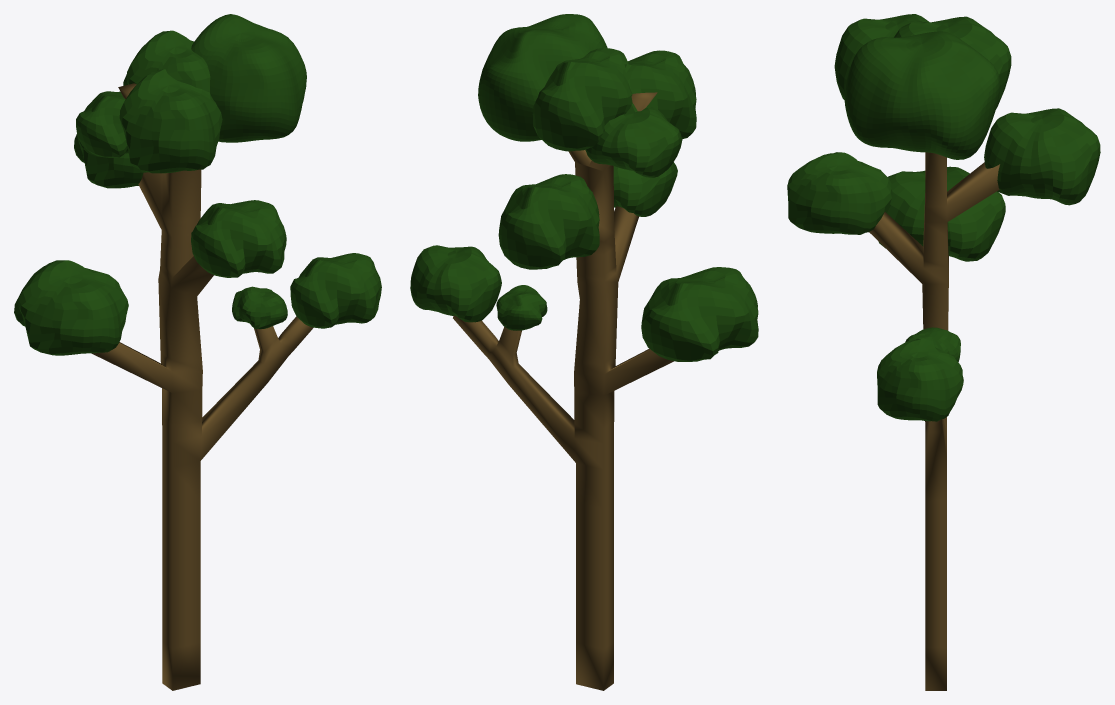
File: tree.gltf
3 renders of one model, left to right at view 1: azimuth 30°, elevation 25°; view 2: azimuth 150°, elevation 25°; view 3: azimuth 270°, elevation 25°, orthographic. The views are drawn at different scales.
Visible parts, largest first — view 1: Cube, Sphere.002, Sphere.007, Sphere.010, Sphere.006, Sphere.001, Sphere.004, Sphere, Sphere.005, Sphere.003; view 2: Cube, Sphere.007, Sphere.002, Sphere.003, Sphere.004, Sphere.001, Sphere, Sphere.010, Sphere.006, Sphere.005; view 3: Sphere.002, Cube, Sphere.003, Sphere.006, Sphere.001, Sphere.007, Sphere.004, Sphere.010, Sphere.005.
Boxes of the visible parts, x1,y1,x2,y2 form: Cube: [91, 83, 313, 690]; Sphere.002: [191, 14, 306, 142]; Sphere.007: [14, 260, 128, 355]; Sphere.010: [119, 69, 222, 173]; Sphere.006: [191, 200, 286, 277]; Sphere.001: [290, 253, 381, 328]; Sphere.004: [123, 30, 210, 92]; Sphere: [76, 91, 128, 157]; Sphere.005: [232, 286, 287, 329]; Sphere.003: [74, 134, 147, 188]; Cube: [453, 92, 673, 690]; Sphere.007: [641, 267, 758, 361]; Sphere.002: [478, 14, 607, 141]; Sphere.003: [498, 174, 599, 269]; Sphere.004: [532, 48, 632, 151]; Sphere.001: [410, 245, 501, 322]; Sphere: [585, 107, 682, 177]; Sphere.010: [624, 50, 696, 139]; Sphere.006: [613, 162, 677, 216]; Sphere.005: [496, 285, 547, 330]; Sphere.002: [844, 31, 1000, 159]; Cube: [869, 152, 999, 690]; Sphere.003: [984, 108, 1100, 205]; Sphere.006: [787, 152, 892, 234]; Sphere.001: [877, 338, 963, 421]; Sphere.007: [878, 166, 1005, 261]; Sphere.004: [894, 16, 1011, 108]; Sphere.010: [834, 14, 929, 99]; Sphere.005: [905, 327, 960, 362].
Bounding box in the file's own units: 7.41 × 13.2 × 5.56.
